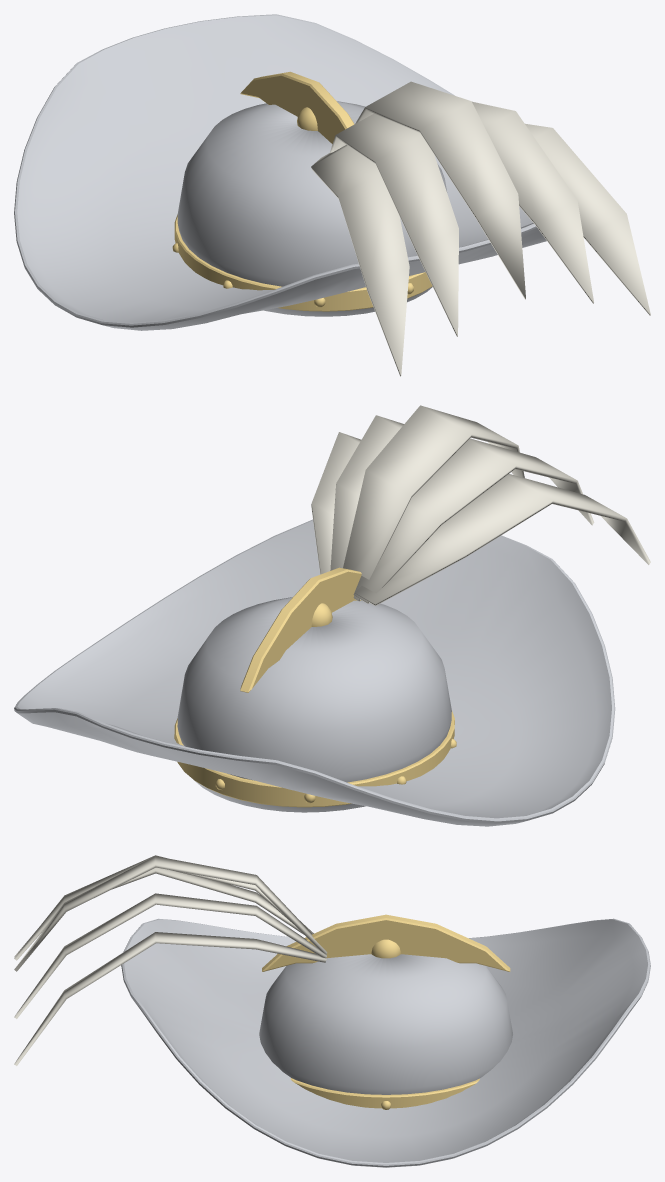
File: vanderberg_head.glb
3 views of the same model, one above another, from view 1: azimuth 30°, elevation 25°; view 2: azimuth 150°, elevation 25°; view 3: azimuth 270°, elevation 25° (orthographic). The views are drawn at different scales.
Parts seen in each view (by area): view 1: G_vanderberg_head; view 2: G_vanderberg_head; view 3: G_vanderberg_head.
Boxes of the visible parts, left/top/right/bottom form: G_vanderberg_head: left=14, top=14, right=650, bottom=376; G_vanderberg_head: left=14, top=405, right=650, bottom=826; G_vanderberg_head: left=14, top=855, right=650, bottom=1167.
Bounding box in the file's own units: 0.5287 × 0.2404 × 0.6357.
